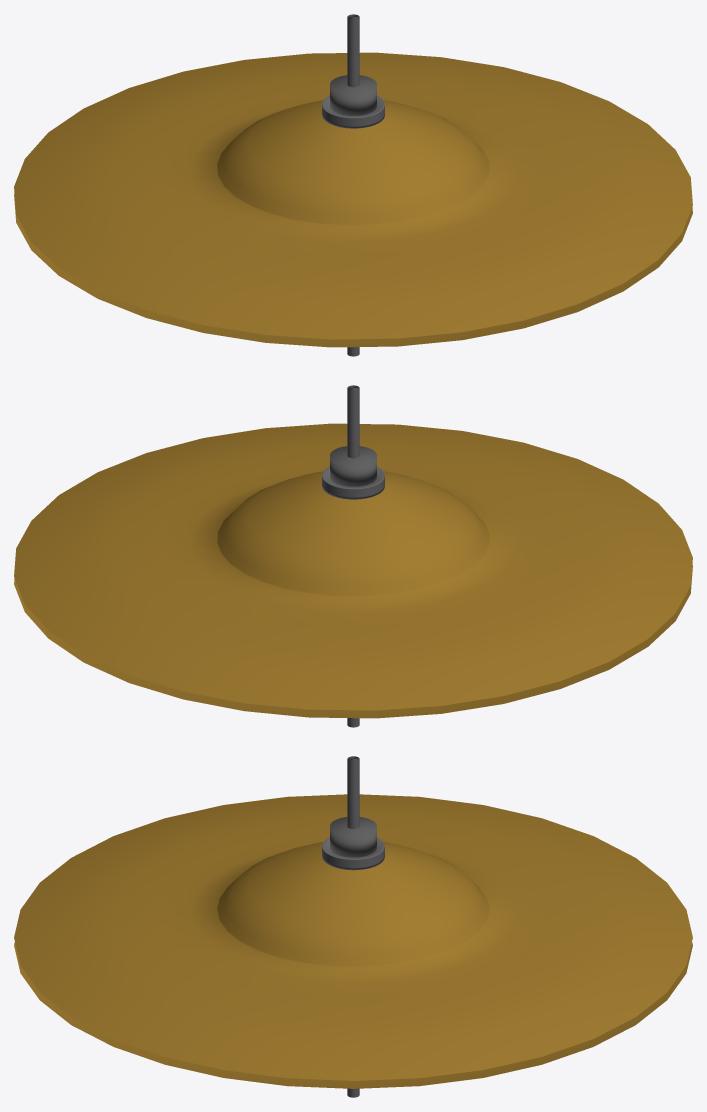
The model's file is dico1.fbx.
3 renders of one model, top to bottom at view 1: azimuth 30°, elevation 25°; view 2: azimuth 150°, elevation 25°; view 3: azimuth 270°, elevation 25°, orthographic.
Visible parts, largest first — view 1: disco .001, disco .002, toniquete .001, palo.001, torniquete .001; view 2: disco .001, disco .002, toniquete .001, palo.001, torniquete .001; view 3: disco .001, disco .002, toniquete .001, palo.001, torniquete .001.
Boxes of the visible parts, x1,y1,x2,y2 form: disco .001: [14, 52, 692, 339]; disco .002: [14, 193, 692, 347]; toniquete .001: [330, 75, 376, 115]; palo.001: [347, 14, 359, 356]; torniquete .001: [322, 95, 384, 128]; disco .001: [14, 423, 692, 710]; disco .002: [14, 564, 692, 718]; toniquete .001: [330, 446, 376, 486]; palo.001: [347, 385, 359, 727]; torniquete .001: [322, 466, 384, 499]; disco .001: [14, 794, 692, 1080]; disco .002: [14, 942, 692, 1088]; toniquete .001: [330, 817, 376, 857]; palo.001: [347, 756, 359, 1097]; torniquete .001: [322, 837, 384, 870].
Bounding box in the file's own units: 200 × 109 × 200.
